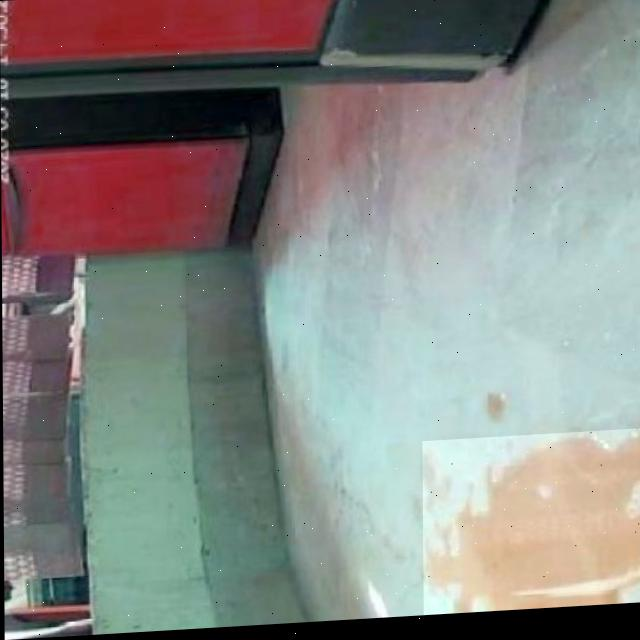spillage: (423, 439, 640, 619)
